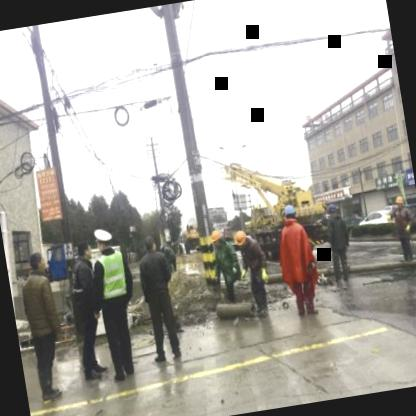head: (92, 226, 116, 260), (26, 250, 48, 278), (73, 237, 94, 263), (142, 231, 160, 255)
helmet: (209, 224, 227, 249), (282, 204, 298, 228), (233, 226, 249, 247), (394, 192, 405, 213), (326, 200, 338, 218)
